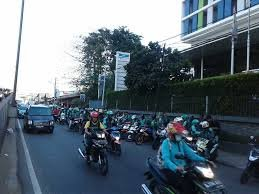motor: (144, 153, 220, 194), (79, 127, 110, 171), (106, 123, 122, 153)
